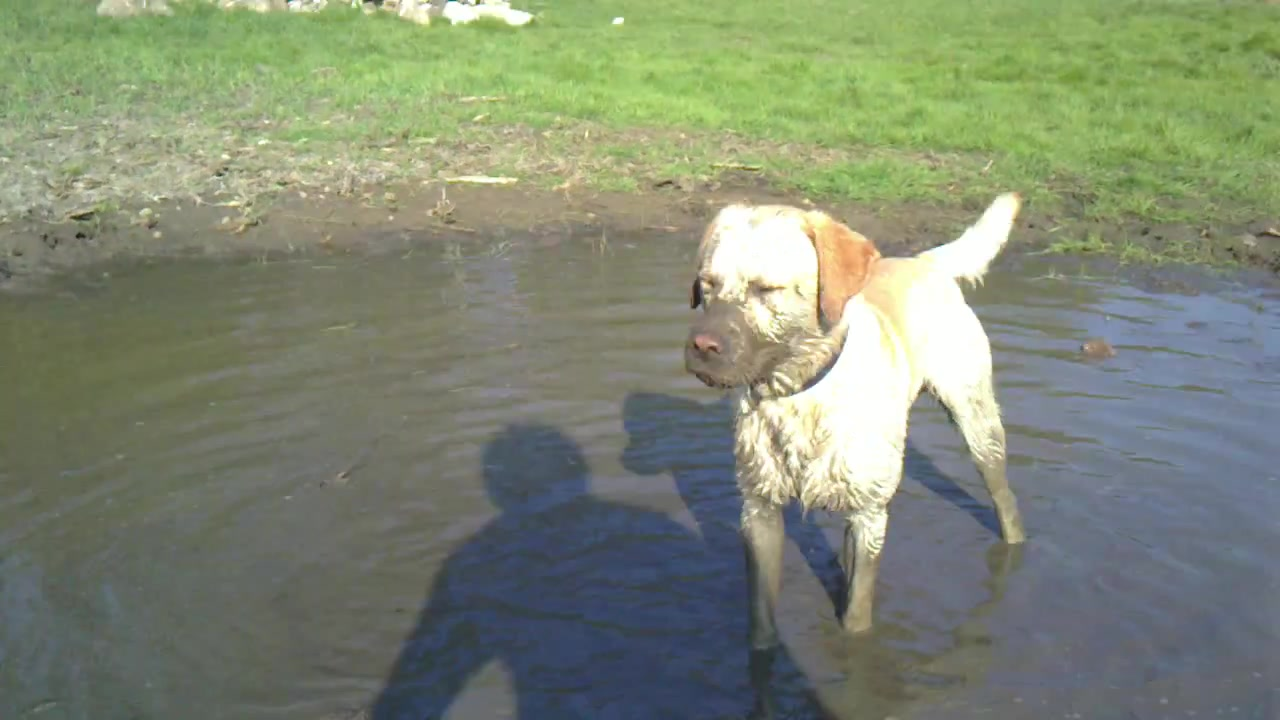dog: (680, 190, 1034, 650)
